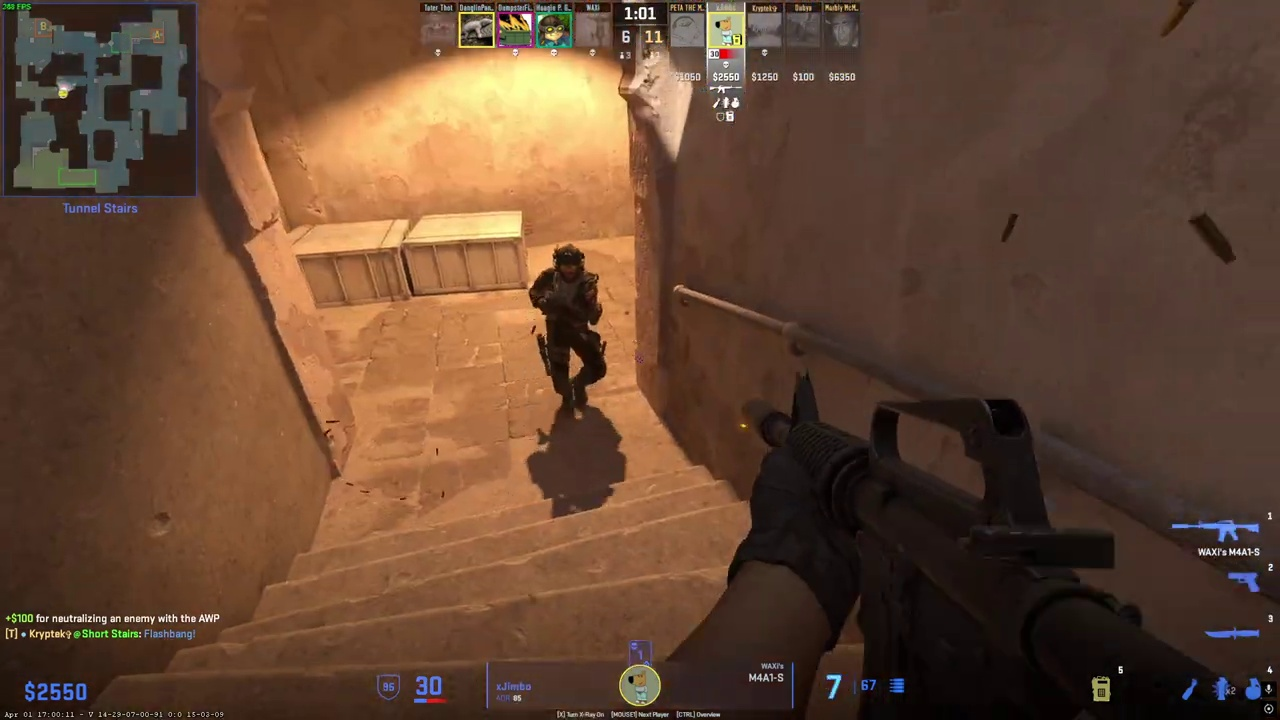CT: (533, 243, 607, 411)
